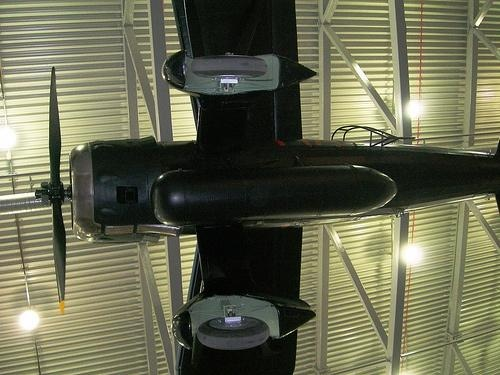aeroplane: (36, 1, 500, 374)
